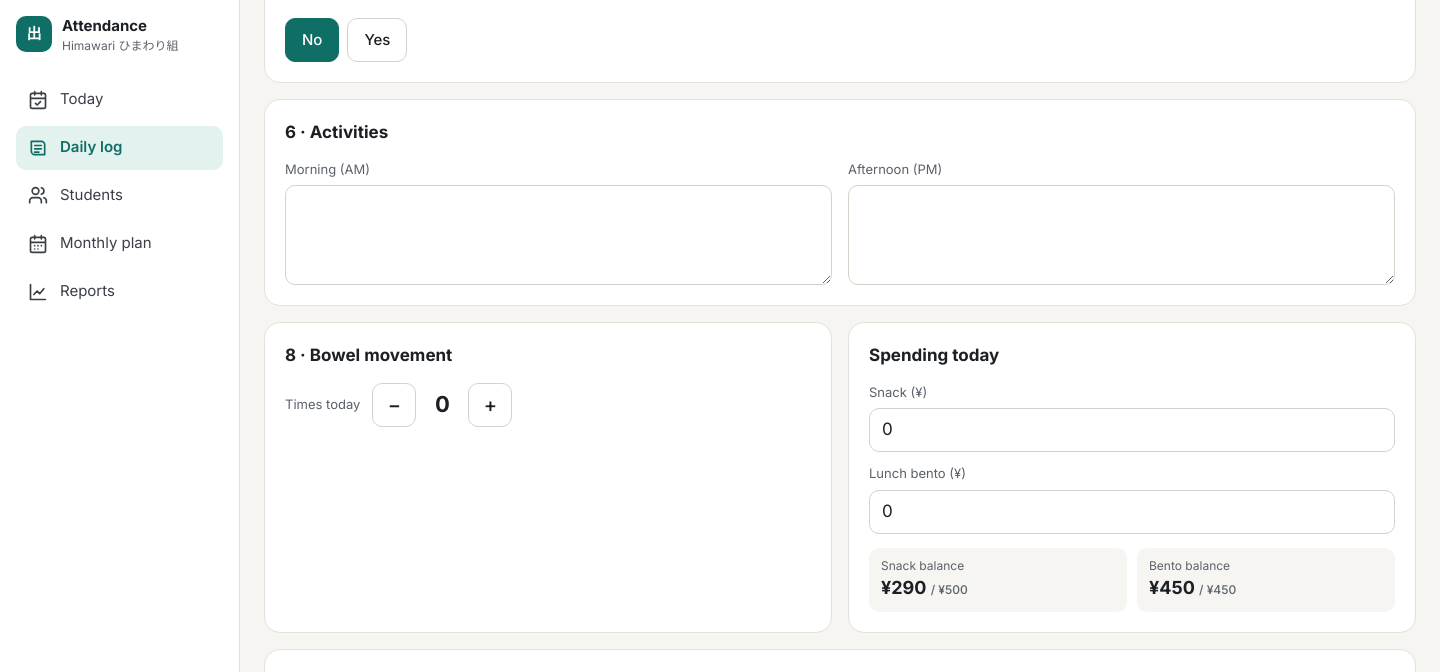
Test: Daily log › hides the bowel condition at 0 and shows the fever warning at 37.5
The width and height of the screenshot is (1440, 672).
(page scrolled)
Click the button named "Increase count" at (490, 404), box [468,382,512,426]
(page scrolled)
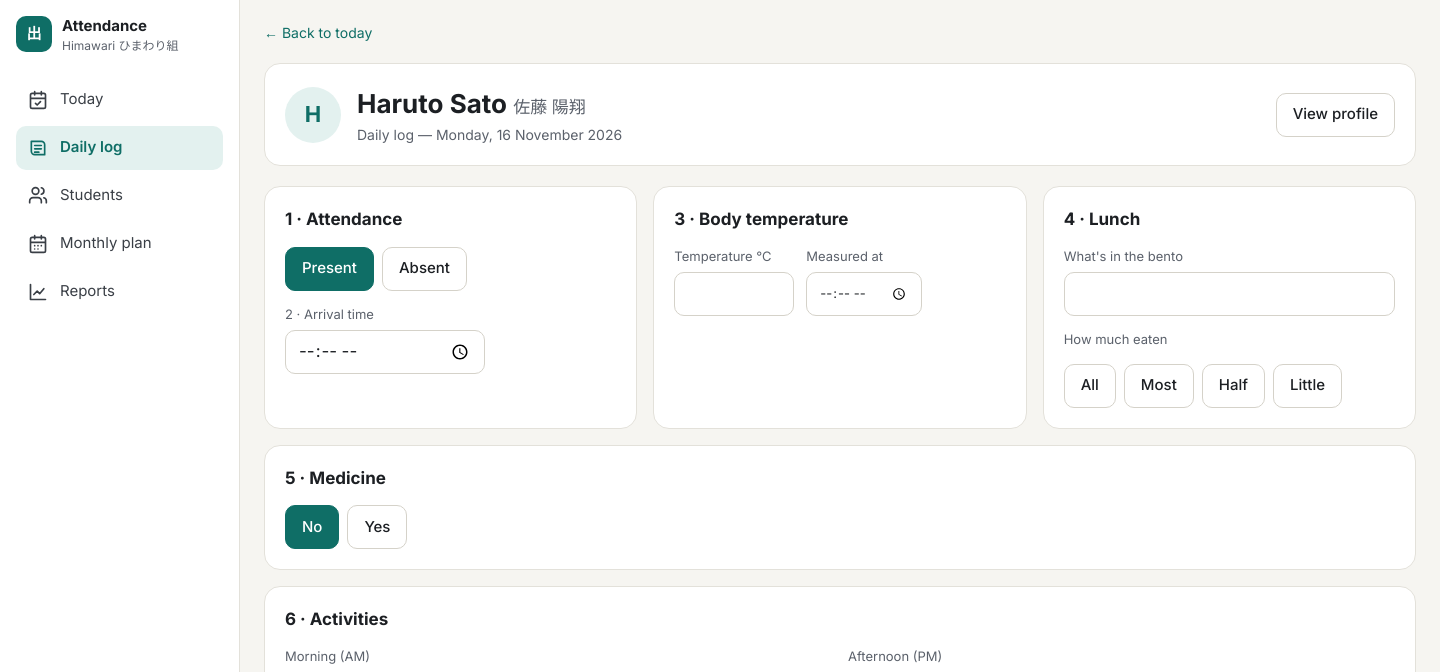
Type "37.4" into the number field labelled "Temperature °C" at (734, 294), box [674,272,794,316]
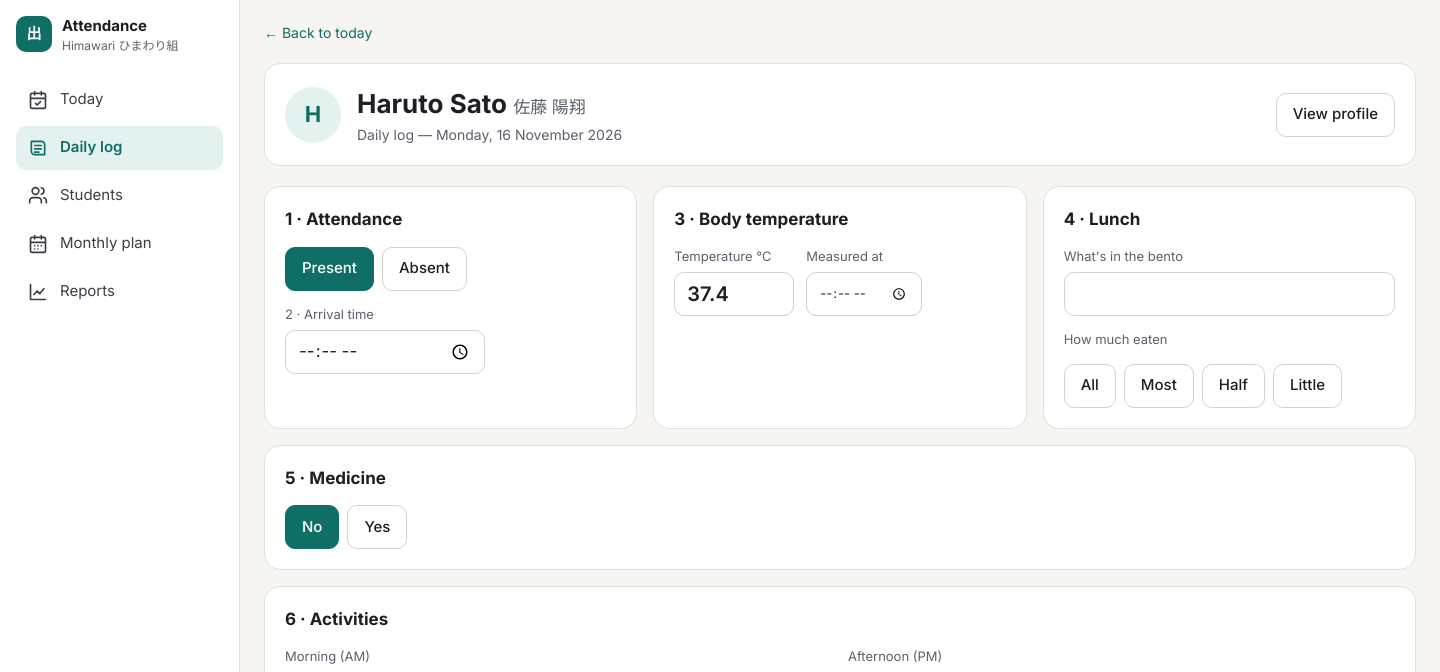
Expected: the text "Fever 37.5°C or above" is not shown
Replace the text in the number field labelled "Temperature °C" with "37.5" at (734, 294), box [674,272,794,316]
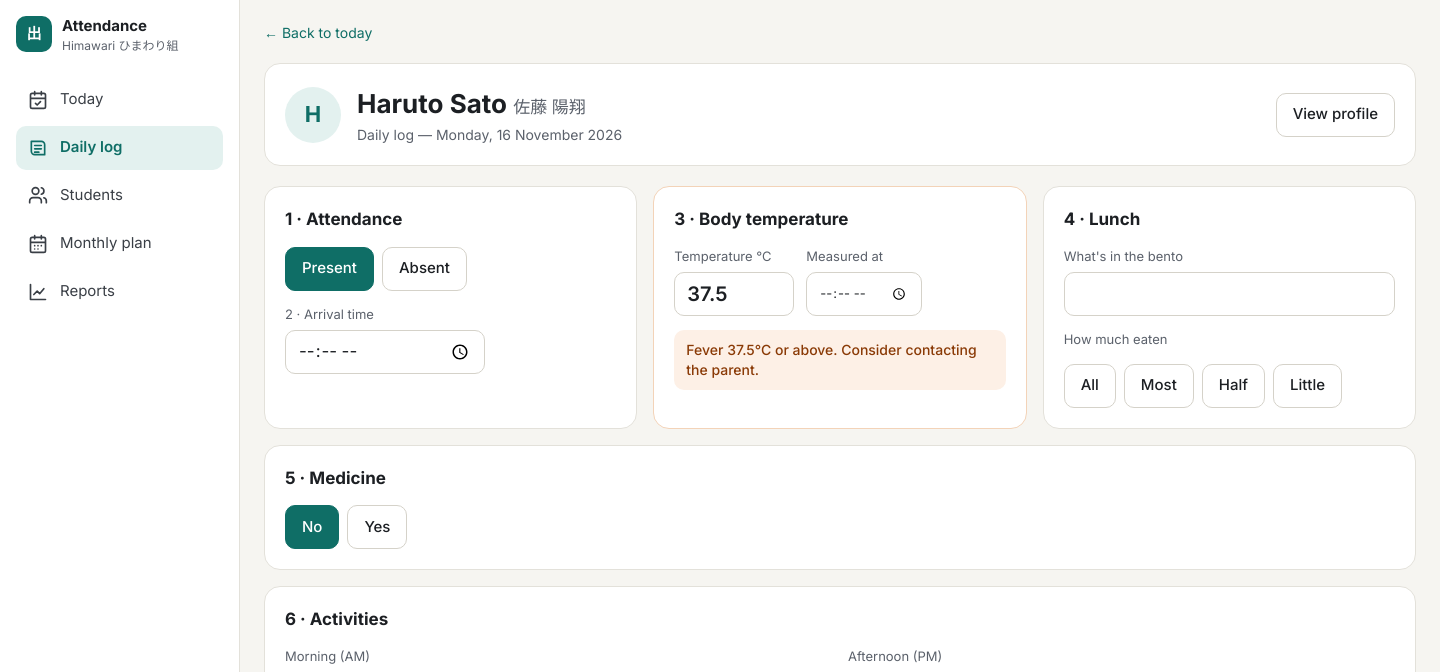
Expected: the text "Fever 37.5°C or above. Consider contacting the parent." is shown, [674,330,1006,390]
